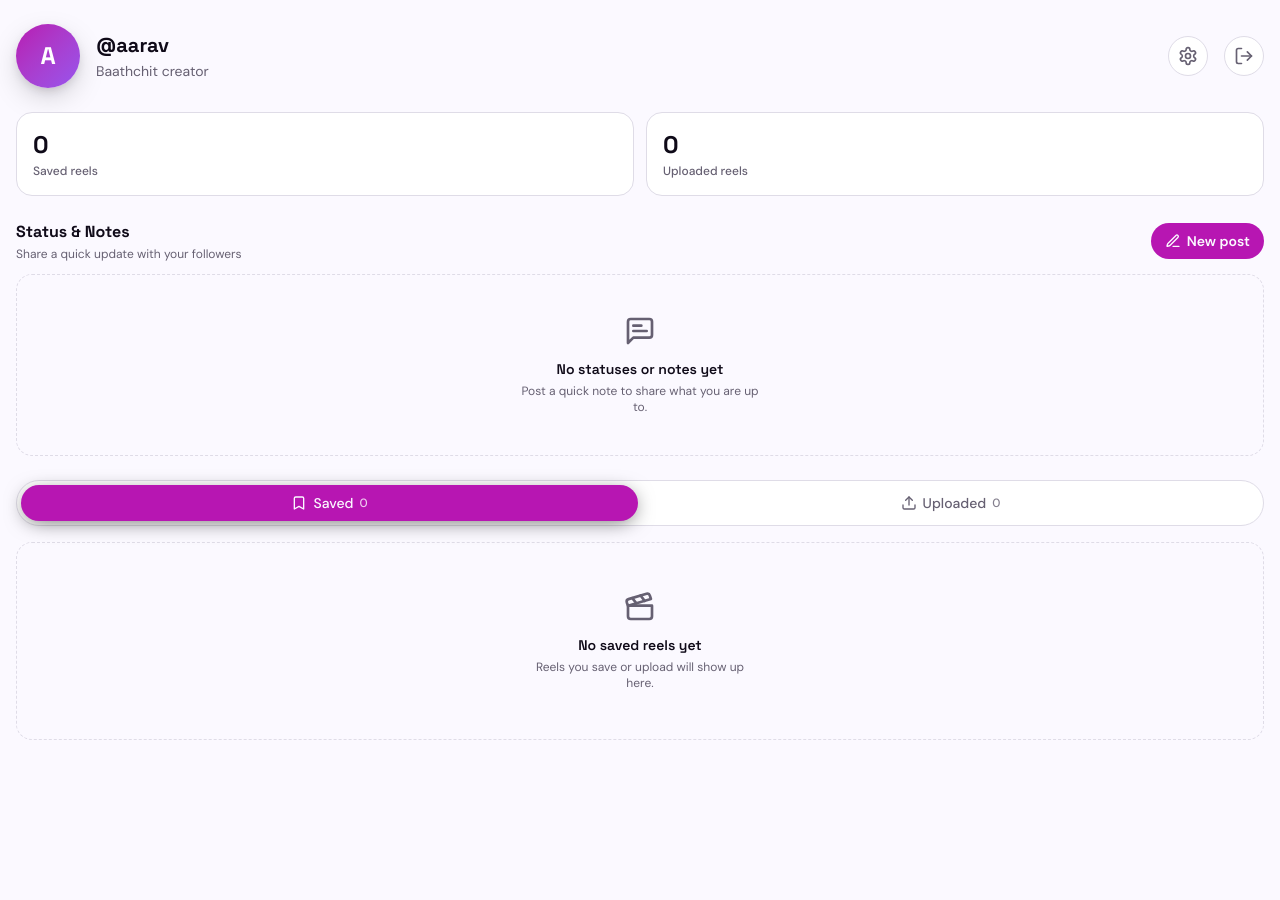
Test: Profile tab baseline (adjacent to the new status/notes section) › shows the empty state for the uploaded tab when the caller has no reels
Check: the text "Saved reels" is shown, box [33,163,98,179]
Click the tab "Uploaded 0". click: (950,503)
box: [642,485,1259,521]
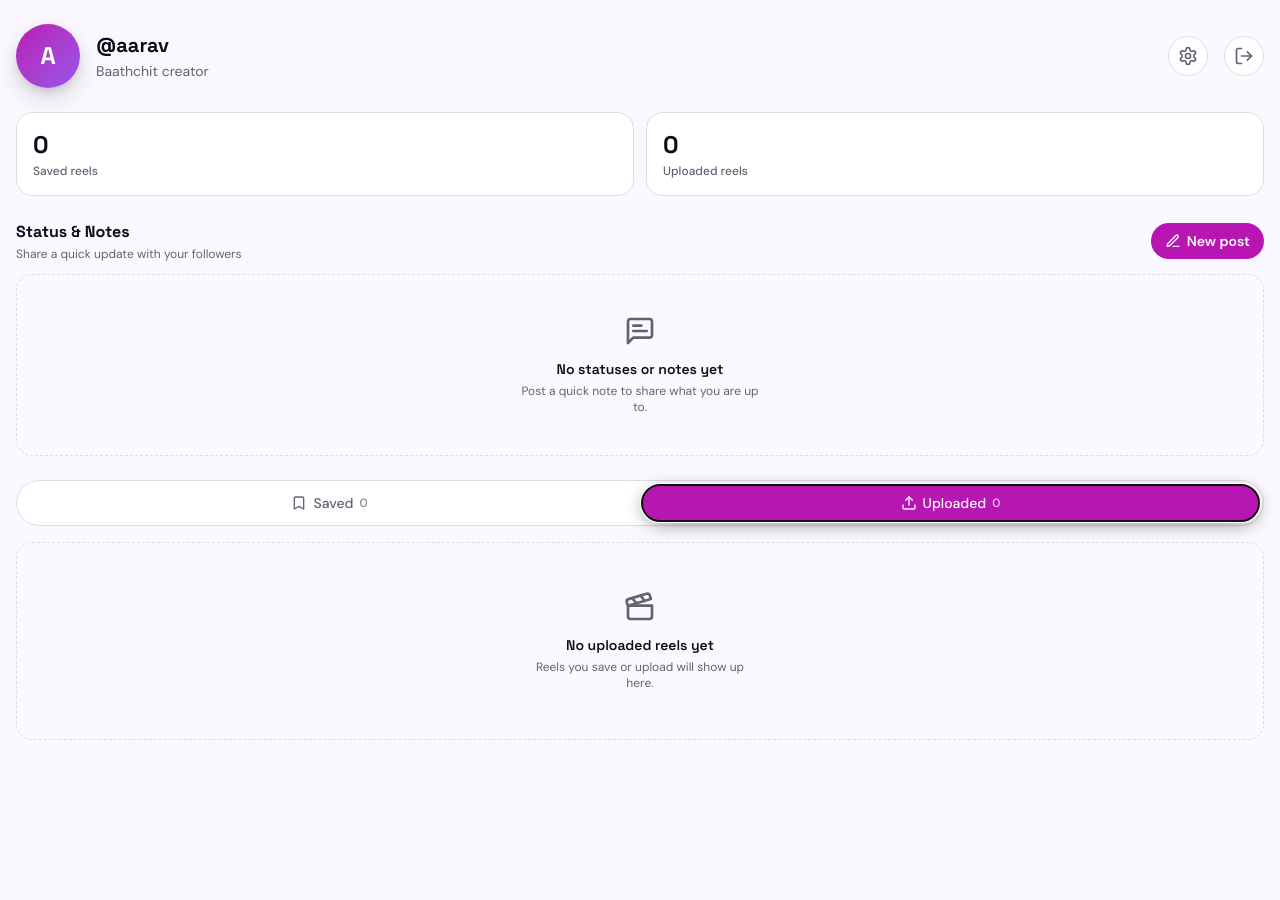
Check: the text "No uploaded reels yet" is shown, box [566,635,714,655]
